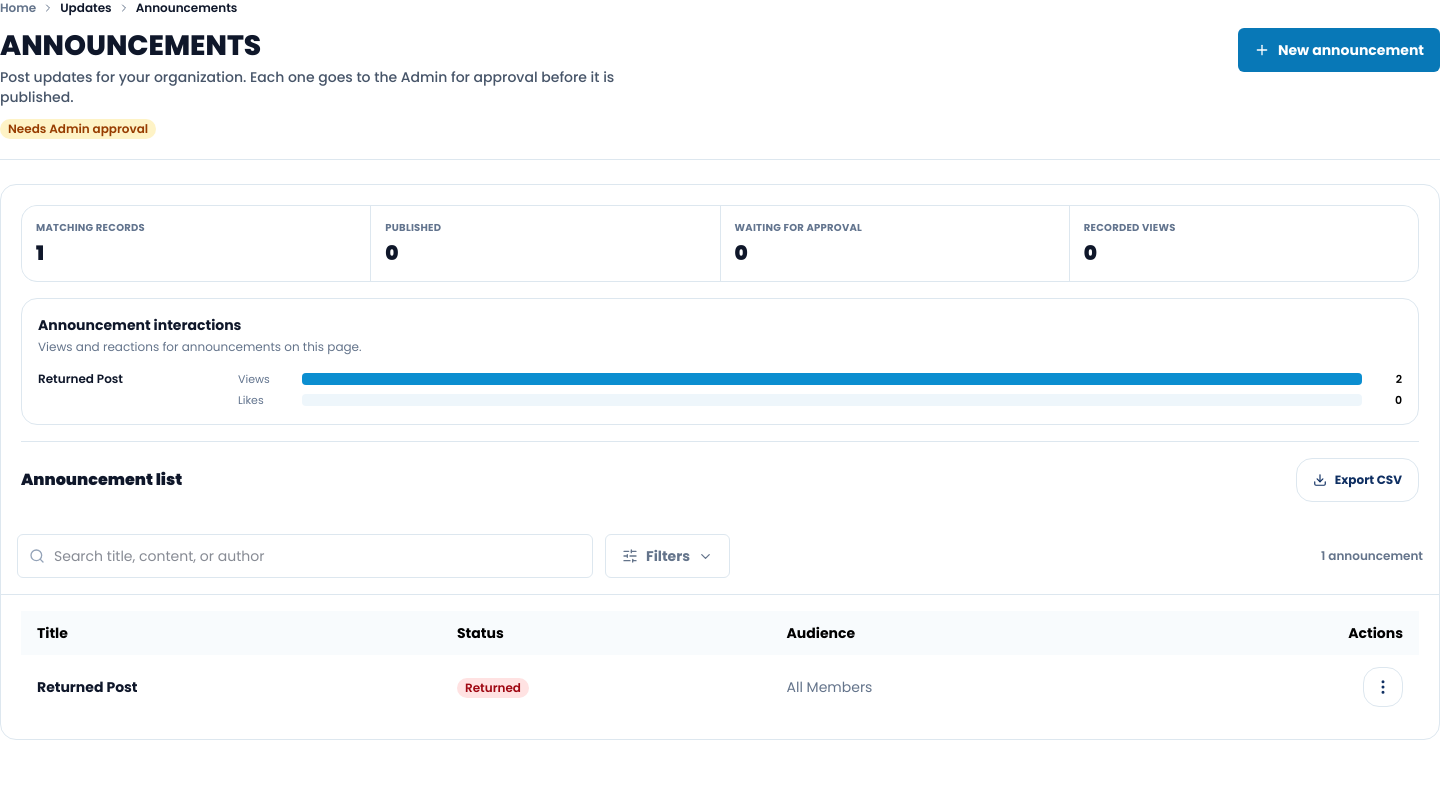
Scenario: ManageAnnouncementsPage › approval stage › shows an officer why an announcement was returned and lets them edit it
The image size is (1440, 810).
Step 1. Click the button "Returned Post" → (87, 687), box top-left (37, 667), bottom-right (138, 707)
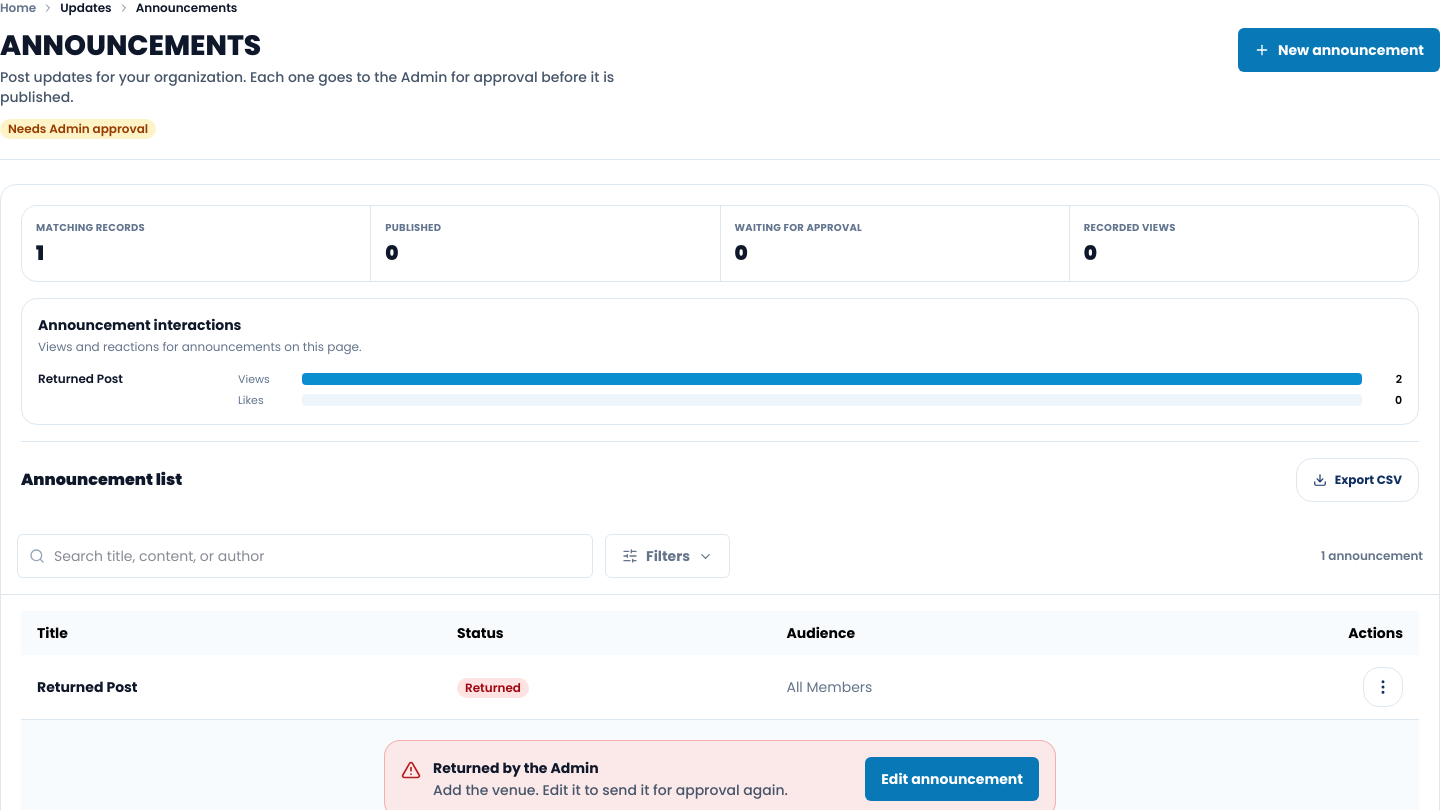
Expected: the text "Returned by the Admin" is shown, top-left (433, 758), bottom-right (599, 778)
Expected: the text "Add the venue. Edit it to send it for approval again." is shown, top-left (433, 780), bottom-right (788, 800)
Step 2. Click the button "Edit announcement" → (952, 779), box top-left (865, 757), bottom-right (1039, 801)
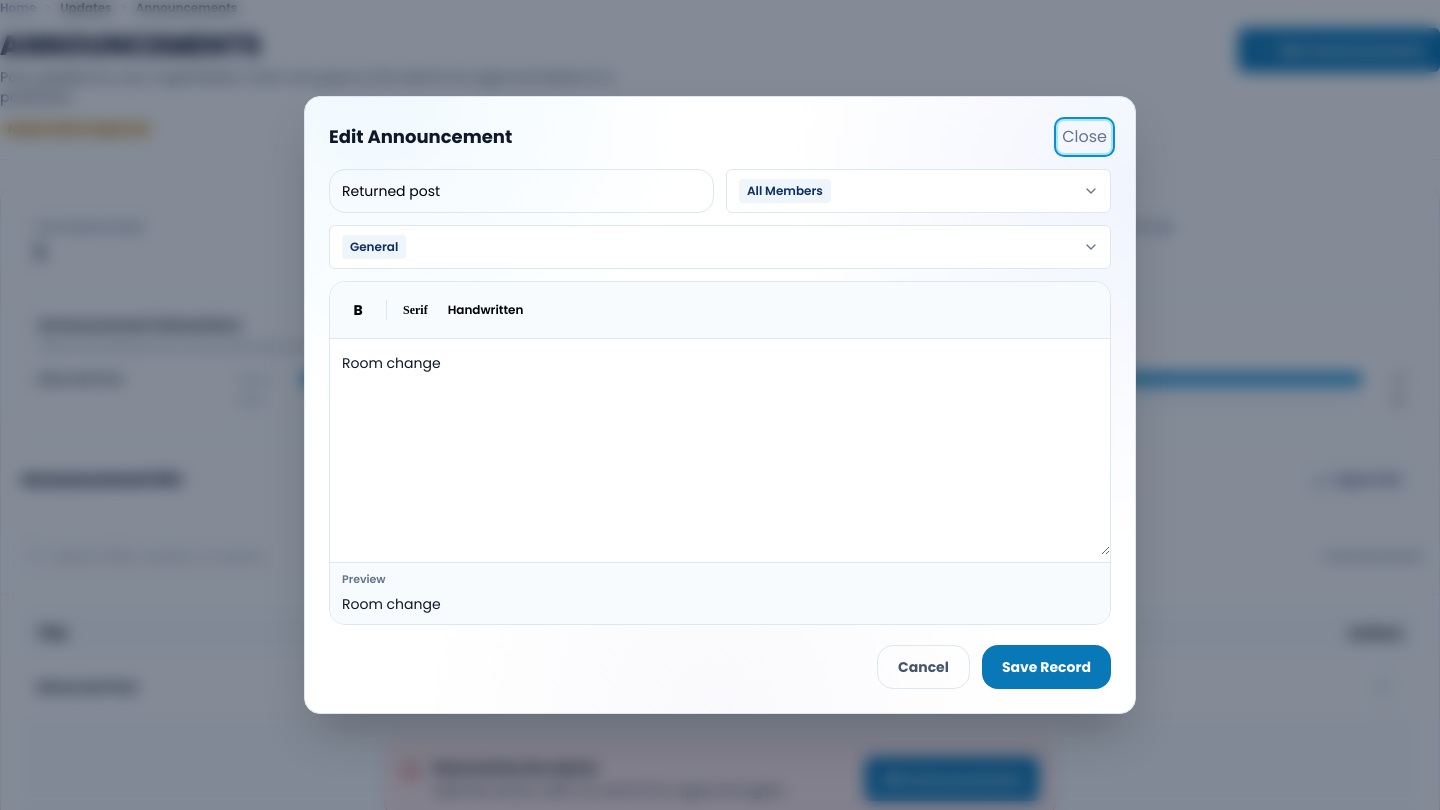
Expected: the dialog "Edit Announcement" is shown
